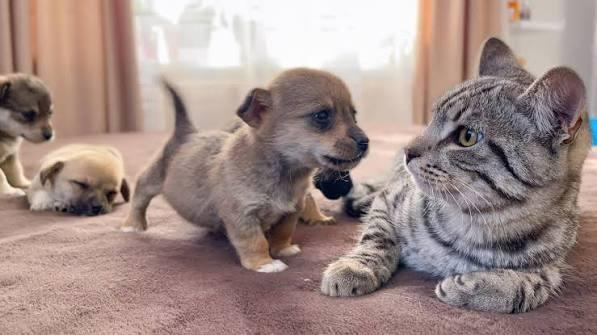non-dog: (319, 34, 597, 316)
puppy-dog: (121, 68, 370, 274), (27, 143, 130, 216), (0, 73, 56, 188)
